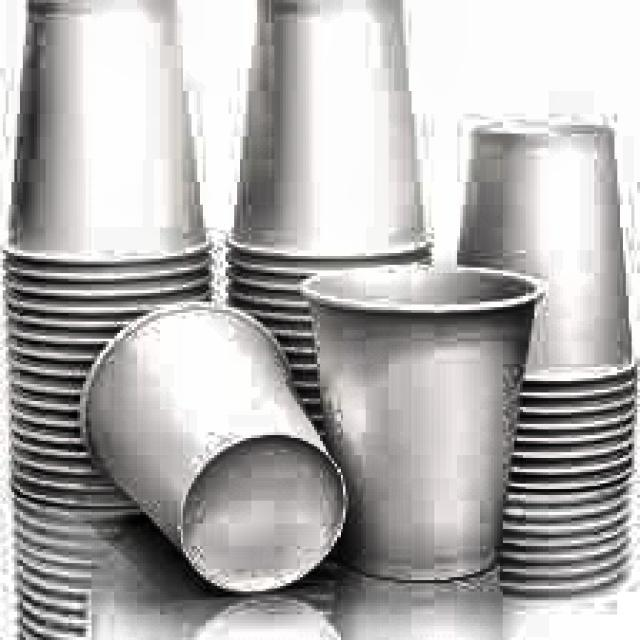Cup: (0, 0, 234, 526), (225, 0, 445, 519), (67, 294, 351, 608), (455, 108, 640, 498), (303, 256, 522, 583)
